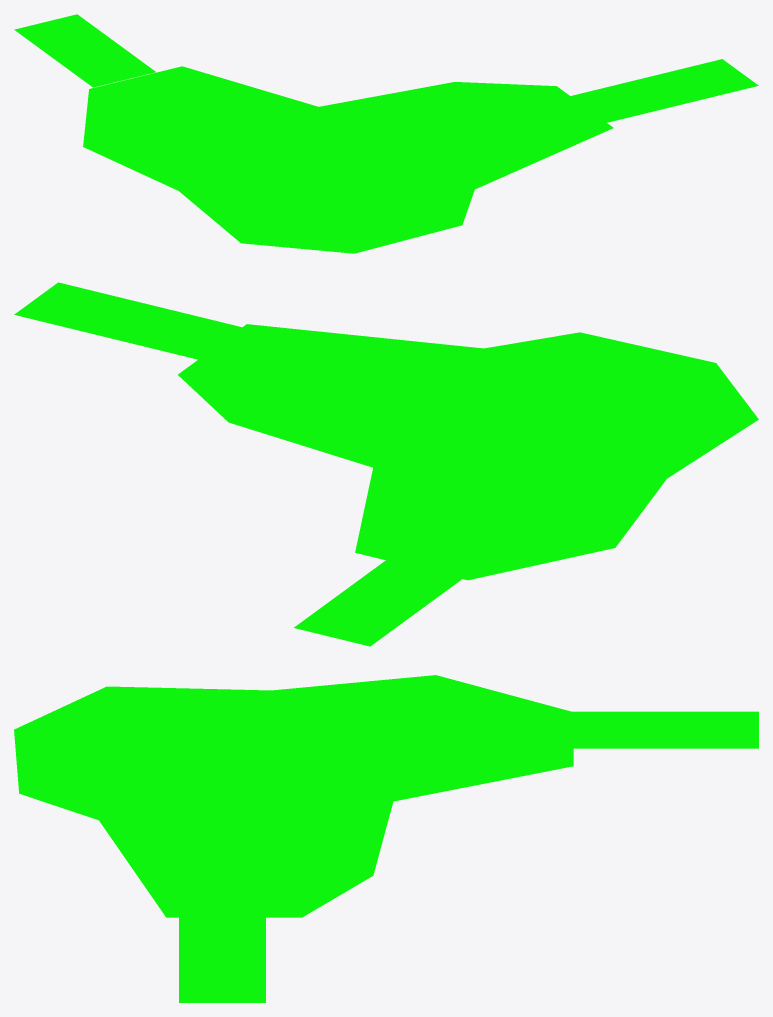
Rendered from s03a_lb3-floor.glb.
3 views of the same model, one above another, from view 1: azimuth 30°, elevation 25°; view 2: azimuth 150°, elevation 25°; view 3: azimuth 270°, elevation 25° (orthographic). The views are drawn at different scales.
Parts seen in each view (by area): view 1: collision_floor-colonly; view 2: collision_floor-colonly; view 3: collision_floor-colonly.
Part boxes in pixels (x1=…): collision_floor-colonly: x1=14, y1=14, x2=758, y2=253; collision_floor-colonly: x1=14, y1=282, x2=758, y2=646; collision_floor-colonly: x1=14, y1=675, x2=758, y2=1002.
Size of the model in its own units: 53.82 by 0.1992 by 51.37.
